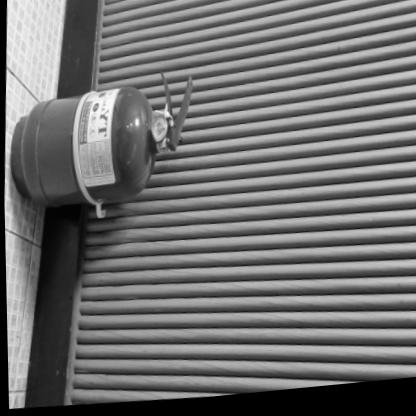FE: (7, 67, 195, 216)
